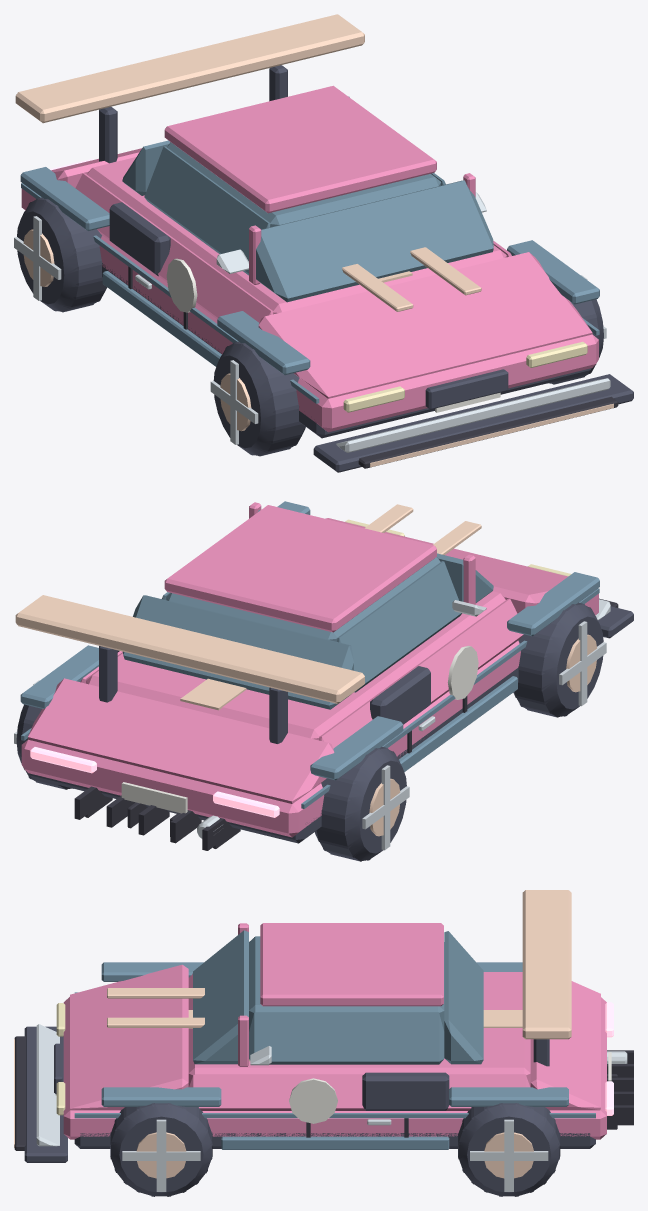
Rendered from oversteer_orbit.fbx.
3 views of the same model, one above another, from view 1: azimuth 30°, elevation 25°; view 2: azimuth 150°, elevation 25°; view 3: azimuth 270°, elevation 25° (orthographic). The views are drawn at different scales.
Visible parts, largest first — view 1: Body, Glass, Accent4, Trim2, Accent, Wheel_FR, Wheel_RR, Accent3, Light, Metal, Trim, Light2 (+3 smaller); view 2: Body, Glass, Accent4, Accent, Trim2, Wheel_RR, Wheel_FR, Trim, Metal, Light, Accent2, Light3 (+3 smaller); view 3: Body, Glass, Accent, Trim2, Accent4, Wheel_FL, Wheel_RL, Metal, Trim, Light, Accent3, Metal2 (+3 smaller).
Boxes of the visible parts, x1,y1,x2,y2 form: Body: [21, 85, 598, 432]; Glass: [122, 96, 493, 302]; Accent4: [15, 14, 364, 123]; Trim2: [99, 65, 633, 472]; Accent: [20, 167, 599, 403]; Wheel_FR: [213, 341, 305, 456]; Wheel_RR: [17, 197, 106, 312]; Accent3: [216, 192, 610, 452]; Light: [342, 247, 613, 467]; Metal: [14, 216, 606, 444]; Trim: [128, 266, 618, 468]; Light2: [343, 341, 587, 412]; Body: [21, 502, 598, 837]; Glass: [123, 510, 493, 709]; Accent4: [15, 595, 364, 703]; Accent: [20, 501, 599, 808]; Trim2: [29, 606, 633, 843]; Wheel_RR: [314, 747, 406, 861]; Wheel_FR: [513, 602, 603, 717]; Trim: [74, 598, 618, 850]; Metal: [14, 621, 606, 850]; Light: [180, 504, 481, 710]; Accent2: [121, 645, 478, 813]; Light3: [30, 747, 279, 817]; Body: [63, 923, 606, 1139]; Glass: [193, 930, 483, 1064]; Accent: [74, 962, 595, 1149]; Trim2: [24, 1026, 595, 1162]; Accent4: [249, 890, 571, 1061]; Wheel_FL: [110, 1103, 212, 1196]; Wheel_RL: [458, 1103, 560, 1196]; Metal: [122, 1051, 627, 1191]; Trim: [14, 1036, 633, 1150]; Light: [14, 988, 522, 1147]; Accent3: [36, 1024, 271, 1146]; Metal2: [136, 1132, 533, 1178].
Size of the model in its own units: 3.3 by 1.71 by 5.71.
